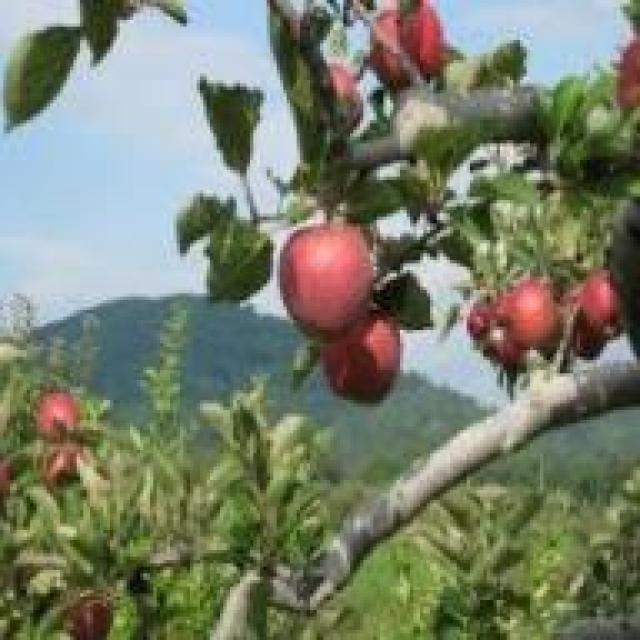apple: (270, 224, 380, 334), (317, 310, 403, 410), (363, 10, 440, 90), (503, 280, 560, 347), (577, 270, 623, 343), (33, 387, 80, 453)
